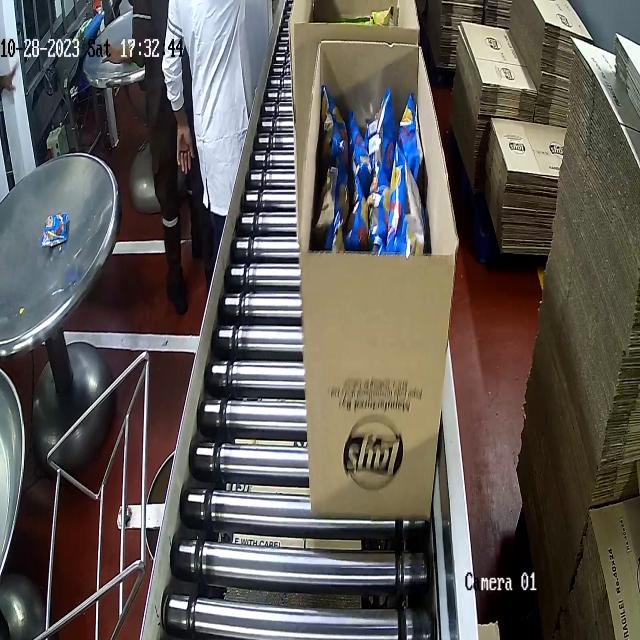PAPRIKA: (317, 94, 435, 267)
